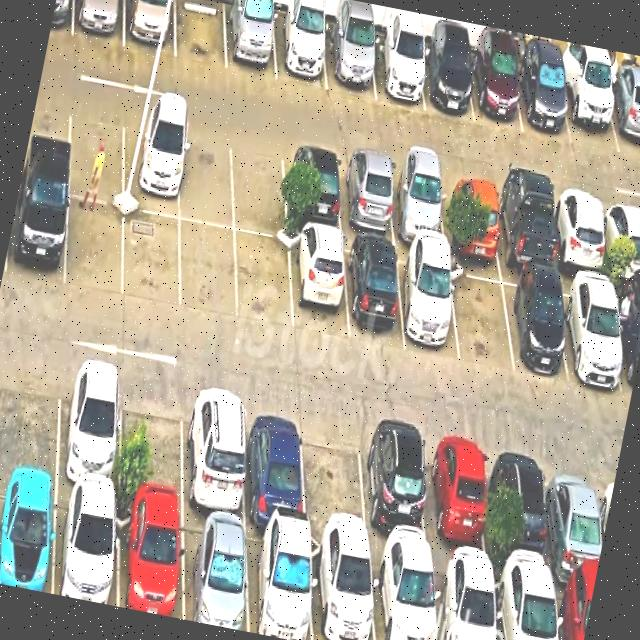empty: (303, 411, 368, 546), (121, 372, 184, 510), (0, 349, 61, 482), (449, 261, 514, 372), (231, 133, 287, 240), (66, 197, 125, 297), (180, 220, 238, 320), (69, 101, 124, 205), (124, 209, 180, 311), (235, 233, 293, 331), (180, 124, 234, 228), (176, 0, 227, 69)
occupied: (361, 421, 431, 558), (57, 358, 121, 497), (425, 431, 489, 569), (185, 385, 246, 522), (245, 397, 306, 531), (182, 512, 249, 632), (496, 443, 553, 579), (119, 500, 183, 619), (559, 275, 625, 390), (54, 487, 117, 607), (247, 525, 312, 640), (547, 453, 603, 586), (501, 269, 568, 377), (397, 249, 460, 361), (0, 477, 57, 594), (6, 182, 69, 287), (311, 537, 375, 640), (345, 238, 405, 347), (290, 229, 348, 339), (124, 112, 181, 218), (371, 551, 437, 640), (494, 182, 556, 273), (442, 172, 501, 261), (433, 559, 497, 640), (284, 144, 342, 233), (388, 162, 446, 248), (339, 153, 396, 240), (560, 69, 619, 153), (552, 191, 608, 277), (517, 57, 571, 143), (494, 570, 558, 640), (470, 49, 523, 132), (419, 44, 474, 122), (273, 11, 327, 90), (370, 34, 425, 110), (225, 0, 276, 80), (325, 25, 375, 98), (601, 199, 640, 282), (612, 284, 640, 396), (124, 0, 176, 57), (604, 77, 640, 157), (553, 580, 594, 640), (73, 0, 125, 47)
